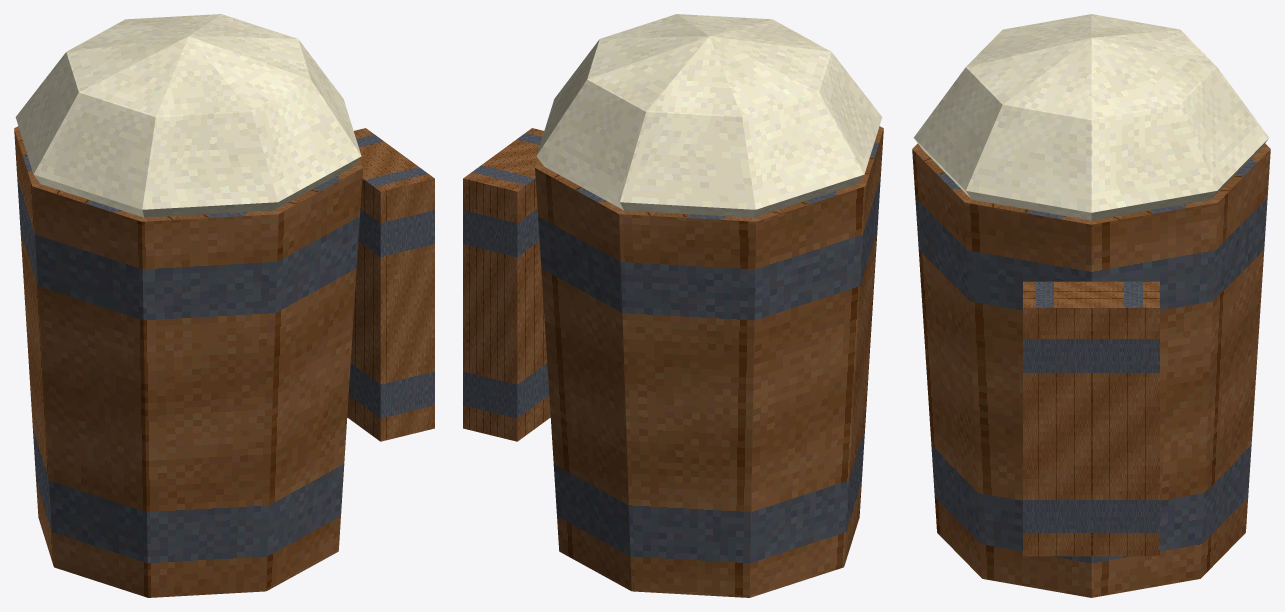
The model's file is caneca_de_cerveja.glb.
3 renders of one model, left to right at view 1: azimuth 30°, elevation 25°; view 2: azimuth 150°, elevation 25°; view 3: azimuth 270°, elevation 25°, orthographic.
Visible parts, largest first — view 1: caneca_de_cerveja; view 2: caneca_de_cerveja; view 3: caneca_de_cerveja.
Part boxes in pixels (box(x1,y1,x2,y2)): caneca_de_cerveja: box(14, 14, 434, 597); caneca_de_cerveja: box(463, 14, 883, 597); caneca_de_cerveja: box(912, 14, 1270, 597).
Bounding box in the file's own units: 0.1695 × 0.2192 × 0.144.
Materials: 1 (1 with a texture image).
